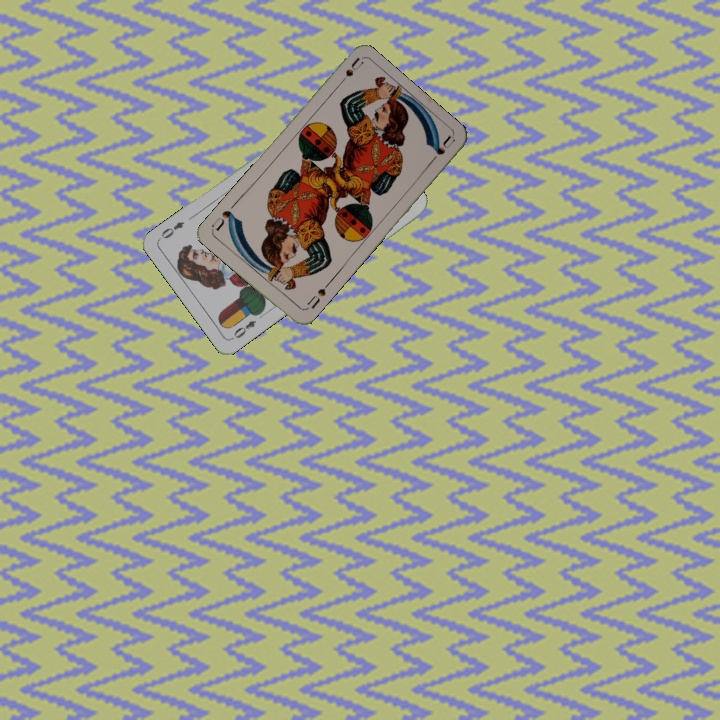EO: (227, 316, 259, 342)
SU: (333, 54, 366, 90), (301, 279, 332, 312)
